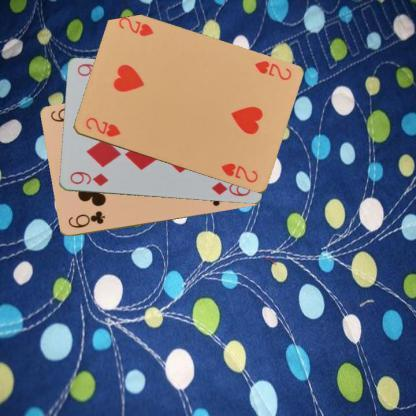2h: (82, 114, 122, 138), (252, 58, 292, 82)
6c: (66, 209, 106, 230)
9d: (67, 168, 109, 187)
